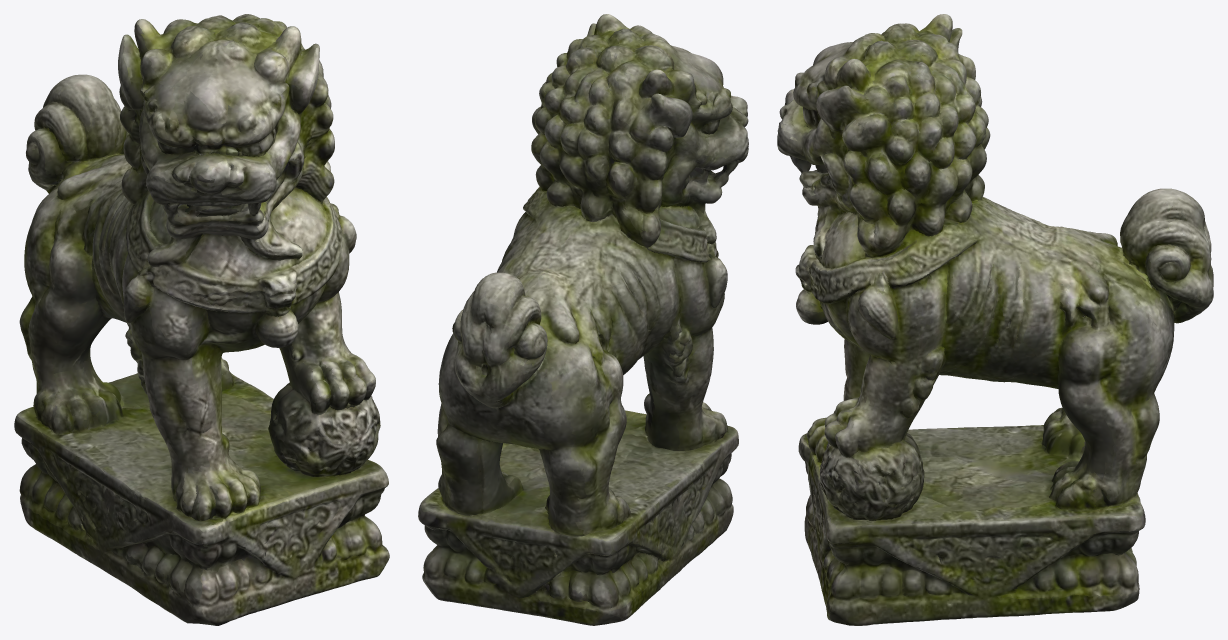
The model's file is guardian-statue.glb.
3 views of the same model, side by side, from view 1: azimuth 30°, elevation 25°; view 2: azimuth 150°, elevation 25°; view 3: azimuth 270°, elevation 25° (orthographic). The views are drawn at different scales.
Visible parts, largest first — view 1: geometry_0; view 2: geometry_0; view 3: geometry_0.
Part boxes in pixels (left/top/right/bottom): geometry_0: left=14, top=14, right=389, bottom=625; geometry_0: left=418, top=14, right=748, bottom=625; geometry_0: left=777, top=14, right=1213, bottom=625.
Bounding box in the file's own units: 0.2012 × 0.45 × 0.3367.
1 material, 1 textured.
